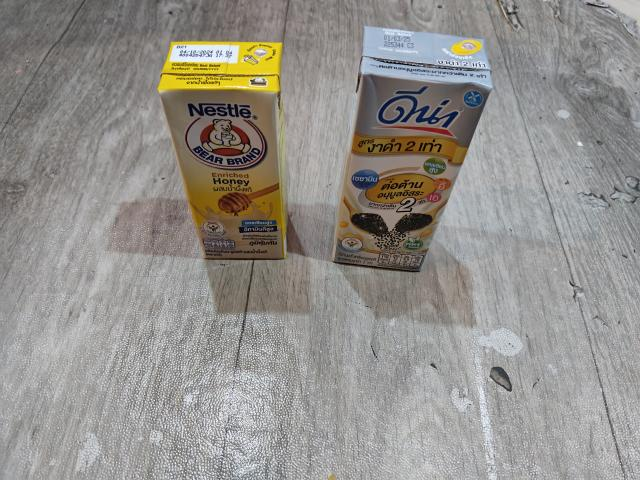drink_box: (323, 19, 501, 278), (149, 32, 297, 264)
